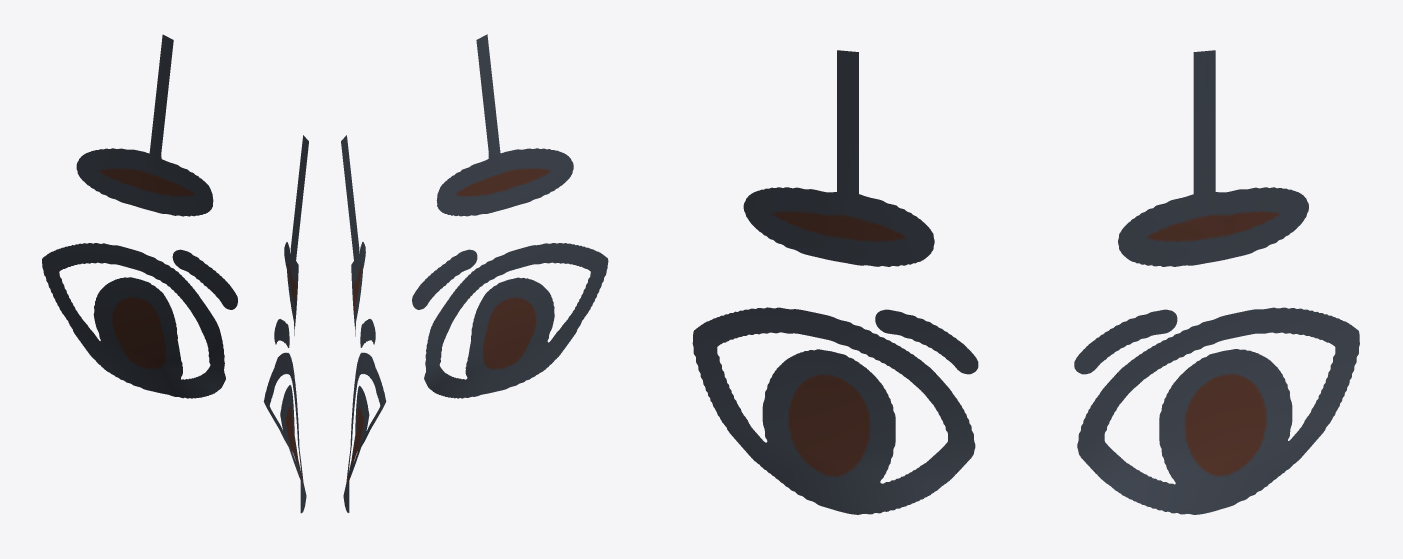
The model's file is Brown_Eyes_001.fbx.
3 views of the same model, side by side, from view 1: azimuth 30°, elevation 25°; view 2: azimuth 150°, elevation 25°; view 3: azimuth 270°, elevation 25° (orthographic). The views are drawn at different scales.
Visible parts, largest first — view 1: Brown Eyes.001; view 2: Brown Eyes.001; view 3: Brown Eyes.001.
Part boxes in pixels (x1=…): Brown Eyes.001: x1=42, y1=34, x2=308, y2=513; Brown Eyes.001: x1=341, y1=34, x2=608, y2=512; Brown Eyes.001: x1=692, y1=50, x2=1359, y2=514.
Bounding box in the file's own units: 16.96 × 47.43 × 65.75.
